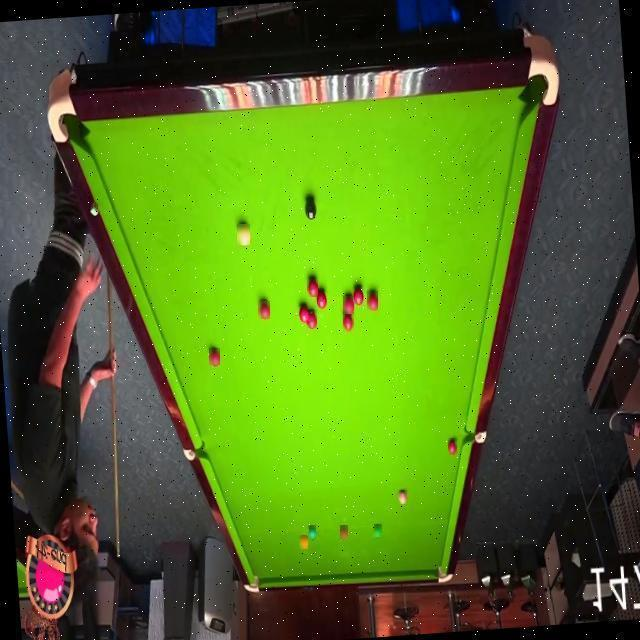Ball: (304, 197, 317, 220), (237, 224, 250, 245), (343, 310, 354, 332), (353, 285, 365, 305), (297, 303, 309, 322), (258, 301, 270, 319), (367, 291, 378, 310), (315, 291, 326, 309), (307, 279, 318, 297), (343, 296, 354, 314), (209, 348, 220, 365), (307, 310, 317, 328), (448, 438, 457, 455), (398, 490, 407, 504), (340, 525, 348, 539), (300, 536, 308, 549), (374, 524, 382, 537), (309, 525, 316, 539)
